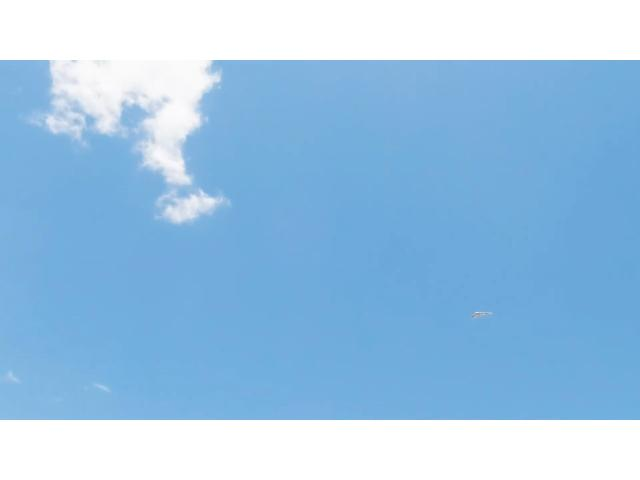Anti-Drone: (462, 299, 504, 323)
